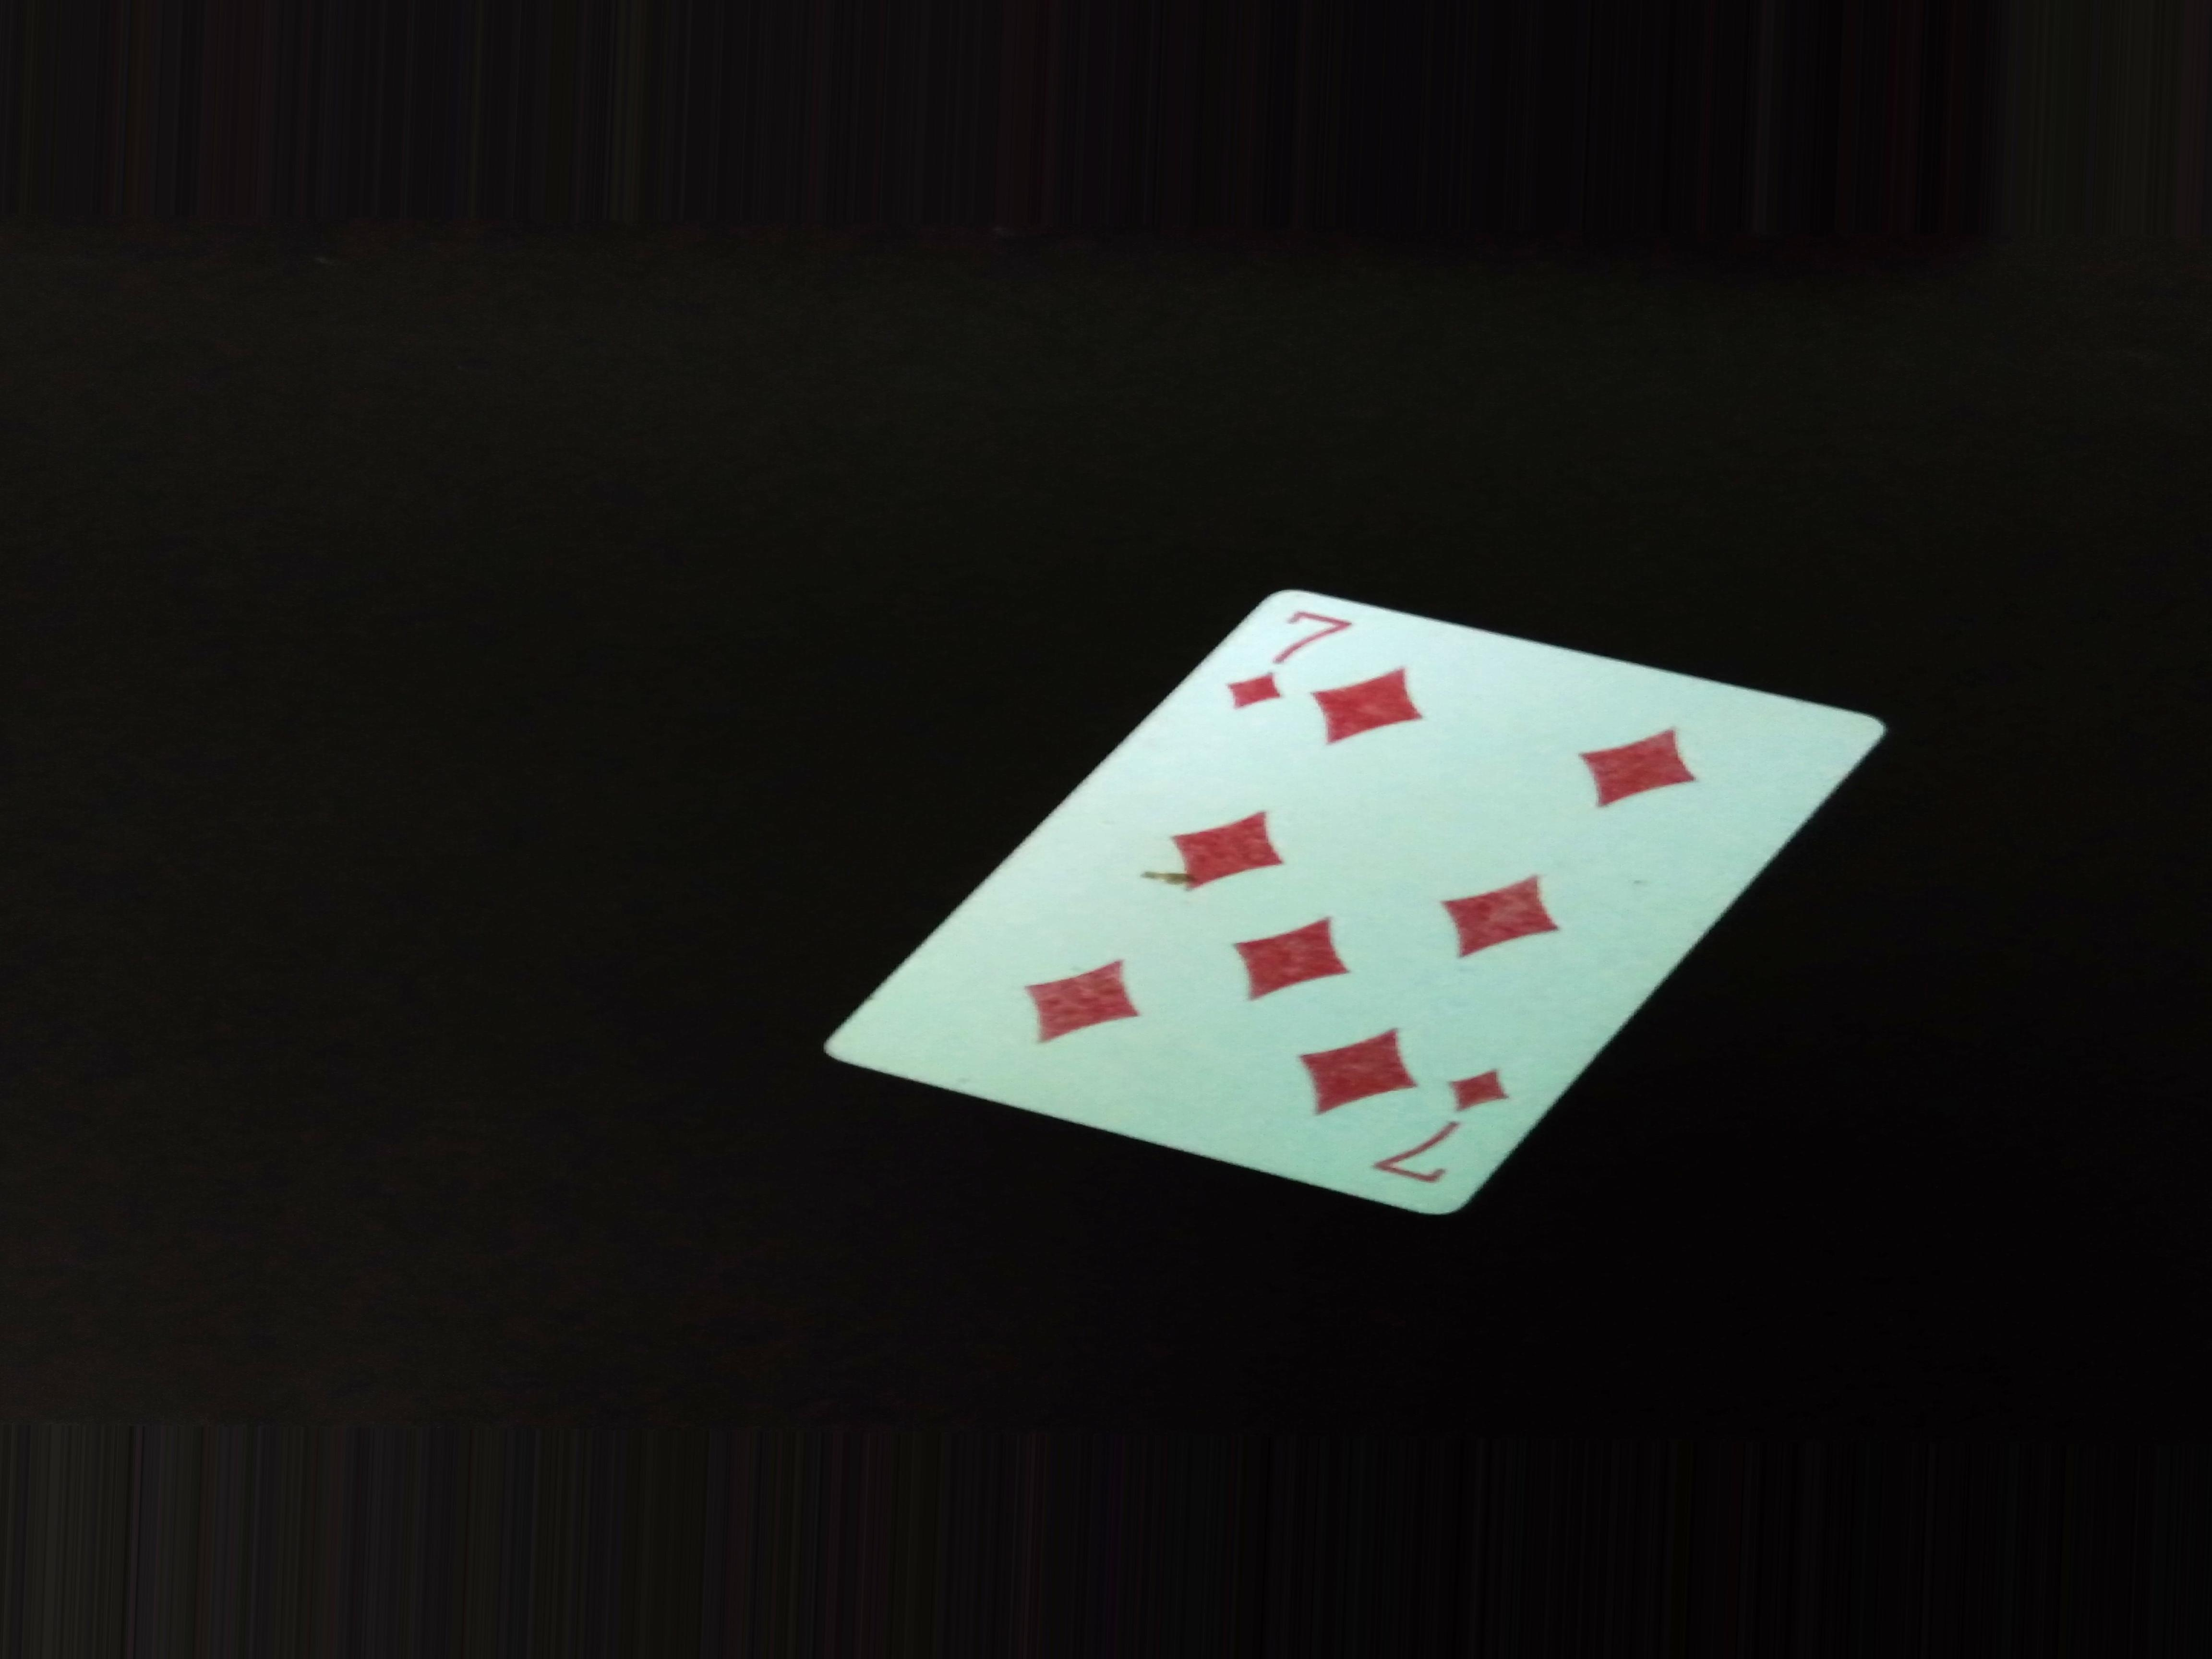7D: (1336, 1037, 1543, 1176)
